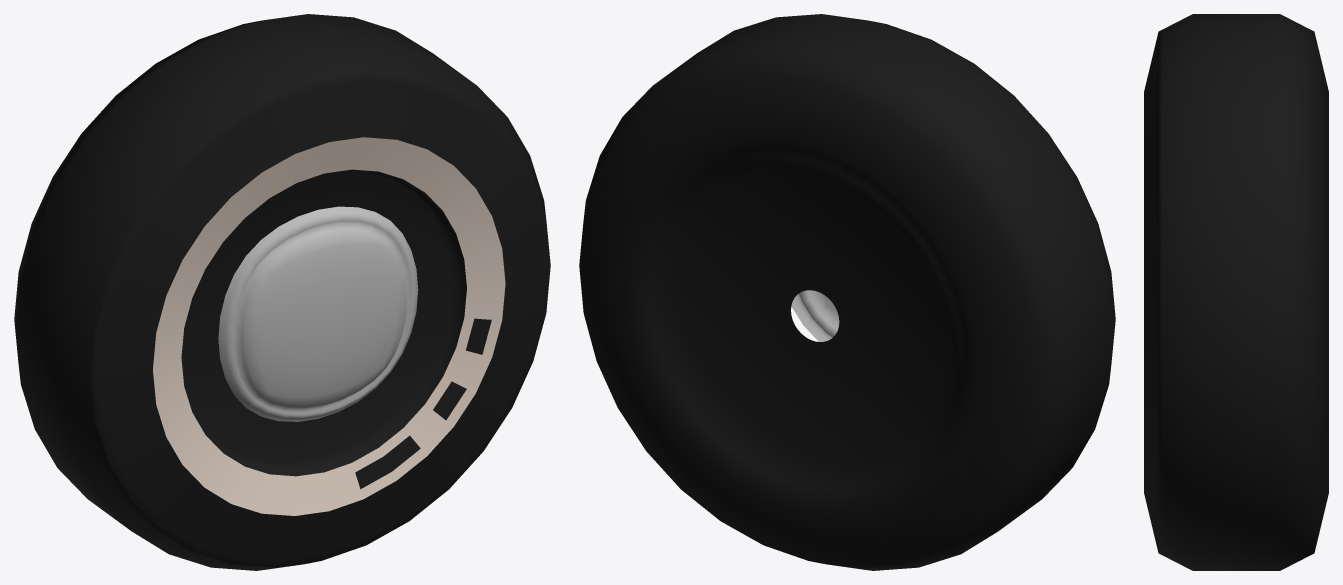
File: Wheel02.glb
3 renders of one model, left to right at view 1: azimuth 30°, elevation 25°; view 2: azimuth 150°, elevation 25°; view 3: azimuth 270°, elevation 25°, orthographic.
Visible parts, largest first — view 1: GomaNegra, metal, GomaBlanca; view 2: GomaNegra, metal; view 3: GomaNegra.
Boxes of the visible parts, left/top/right/bottom form: GomaNegra: left=14, top=14, right=550, bottom=570; metal: left=218, top=206, right=418, bottom=421; GomaBlanca: left=153, top=137, right=505, bottom=515; GomaNegra: left=579, top=14, right=1115, bottom=570; metal: left=791, top=290, right=839, bottom=341; GomaNegra: left=1144, top=14, right=1328, bottom=570.
Size of the model in its own units: 0.7253 by 0.7253 by 0.2403.
